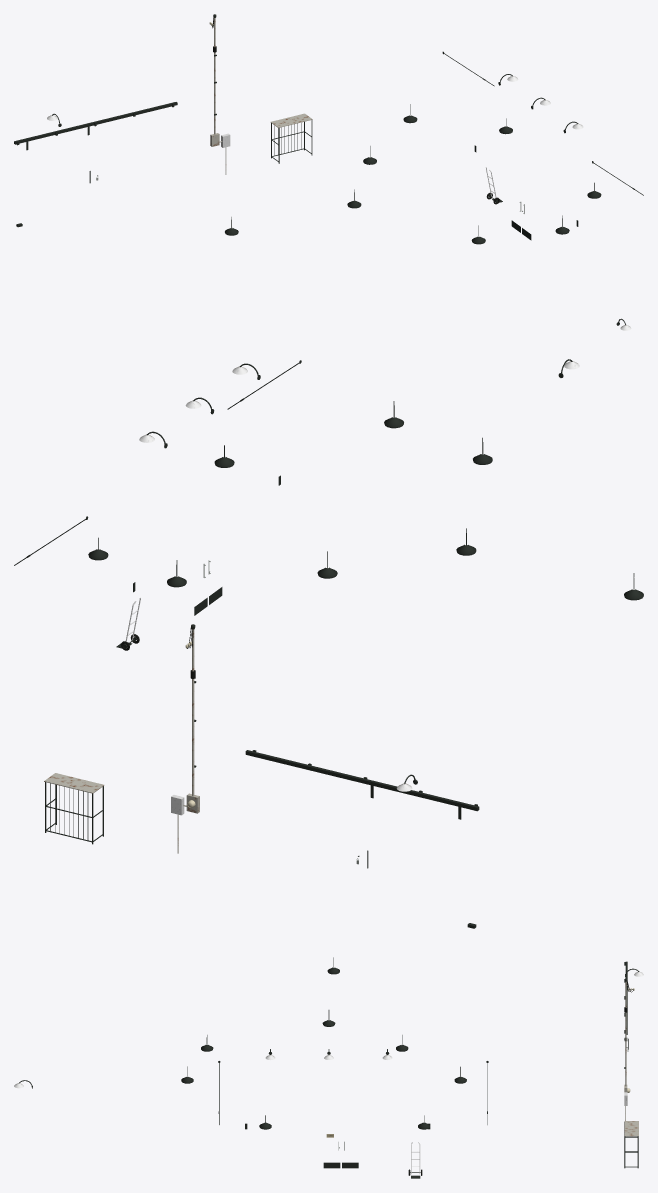
The model's file is SM_Town_Feed_Fixtures.glb.
The picture shows the model from 3 angles, top to bottom: view 1: azimuth 30°, elevation 25°; view 2: azimuth 150°, elevation 25°; view 3: azimuth 270°, elevation 25°; orthographic projection. The views are drawn at different scales.
Parts seen in each view (by area): view 1: SM_Town_Feed_Fixtures; view 2: SM_Town_Feed_Fixtures; view 3: SM_Town_Feed_Fixtures.
Boxes of the visible parts, <box> form: SM_Town_Feed_Fixtures: <box>14,14,643,330</box>; SM_Town_Feed_Fixtures: <box>14,359,643,928</box>; SM_Town_Feed_Fixtures: <box>14,957,643,1178</box>.
Bounding box in the file's own units: 17.11 × 6.68 × 25.83.
12 materials, 6 textured.
